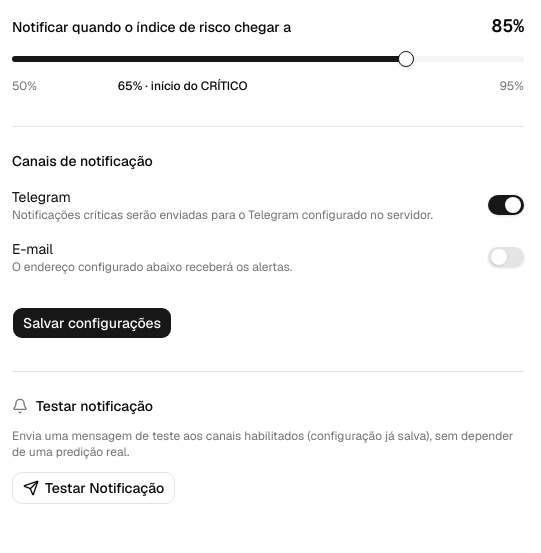
Test: AlertSettingsForm › bloqueia Salvar quando nenhum canal está habilitado
Click the switch named "ativar notificações por telegram". click: (506, 205)
box: 488,195 -> 524,215
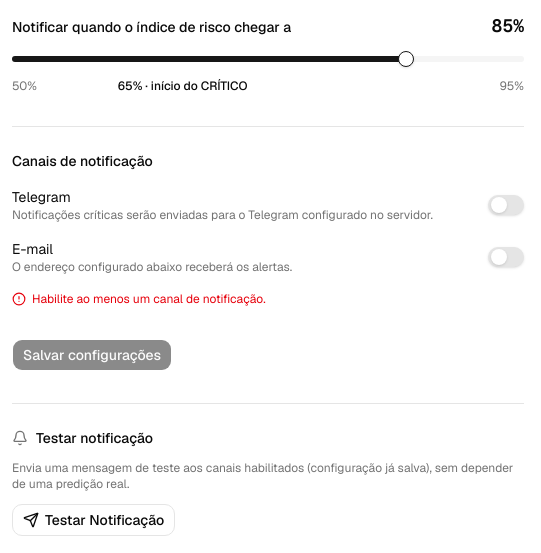
Expected: the button "Salvar configurações" is disabled, 12,339 -> 172,371
Expected: the text "Habilite ao menos um canal de notificação." is shown, 12,291 -> 266,307
